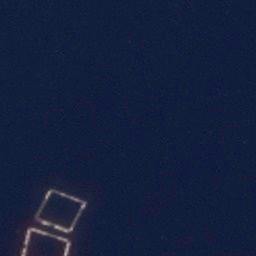square_solid: (33, 188, 89, 238), (18, 226, 74, 256)
